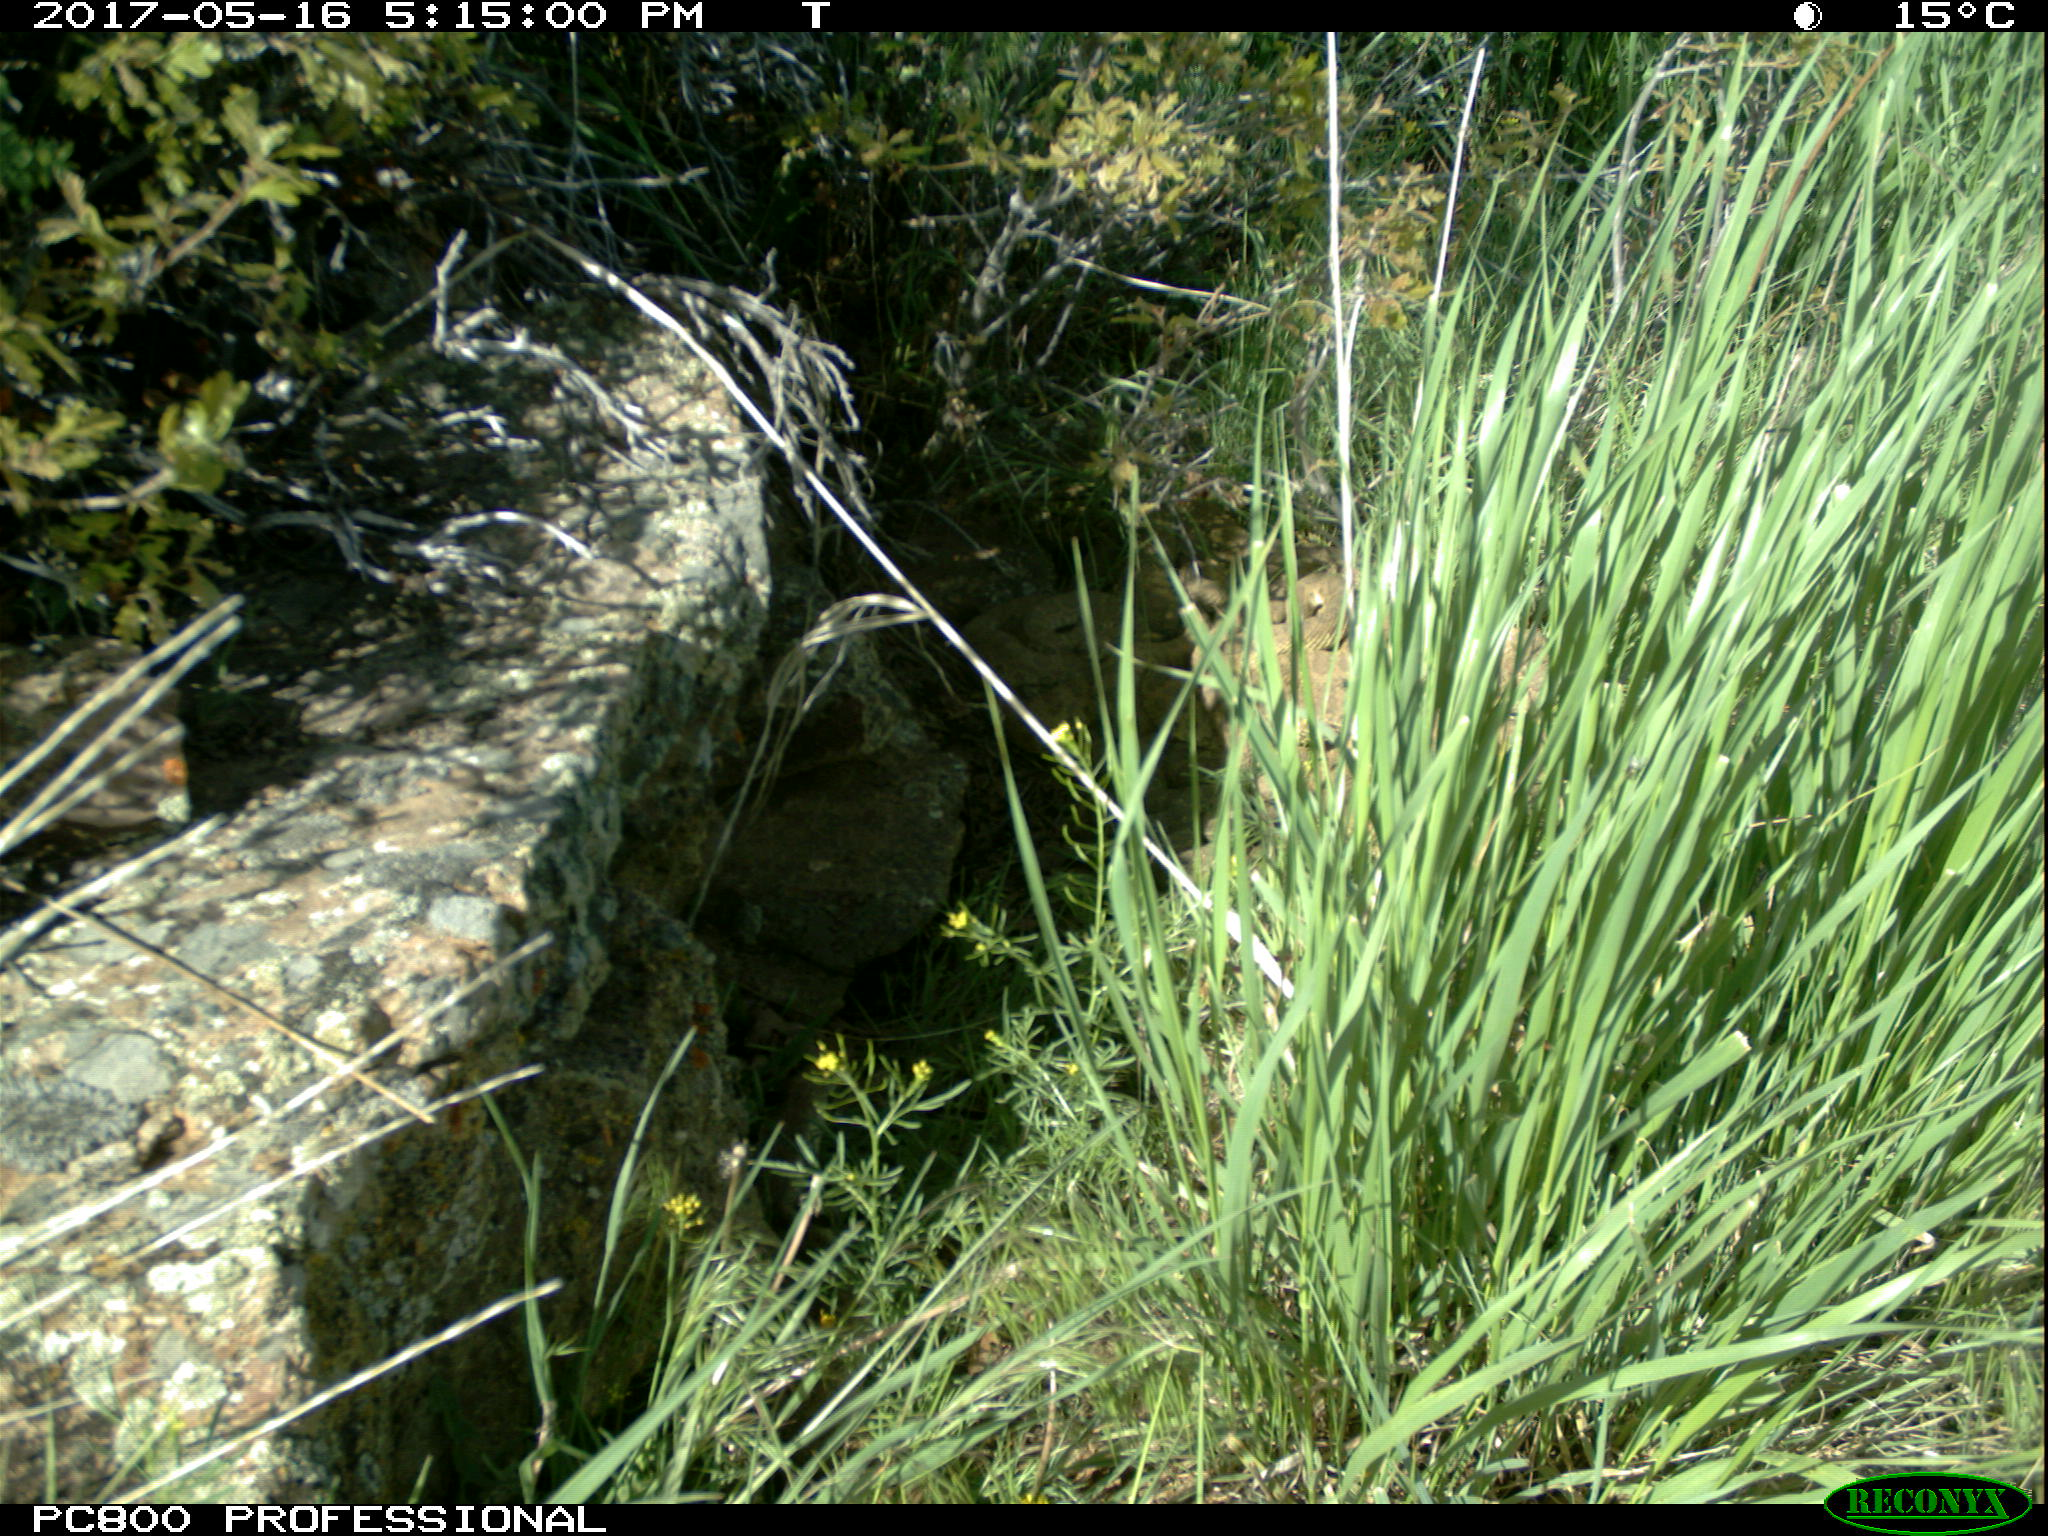snake: (1253, 557, 1351, 736), (1019, 592, 1130, 652), (971, 623, 1080, 674), (1118, 624, 1208, 666)
